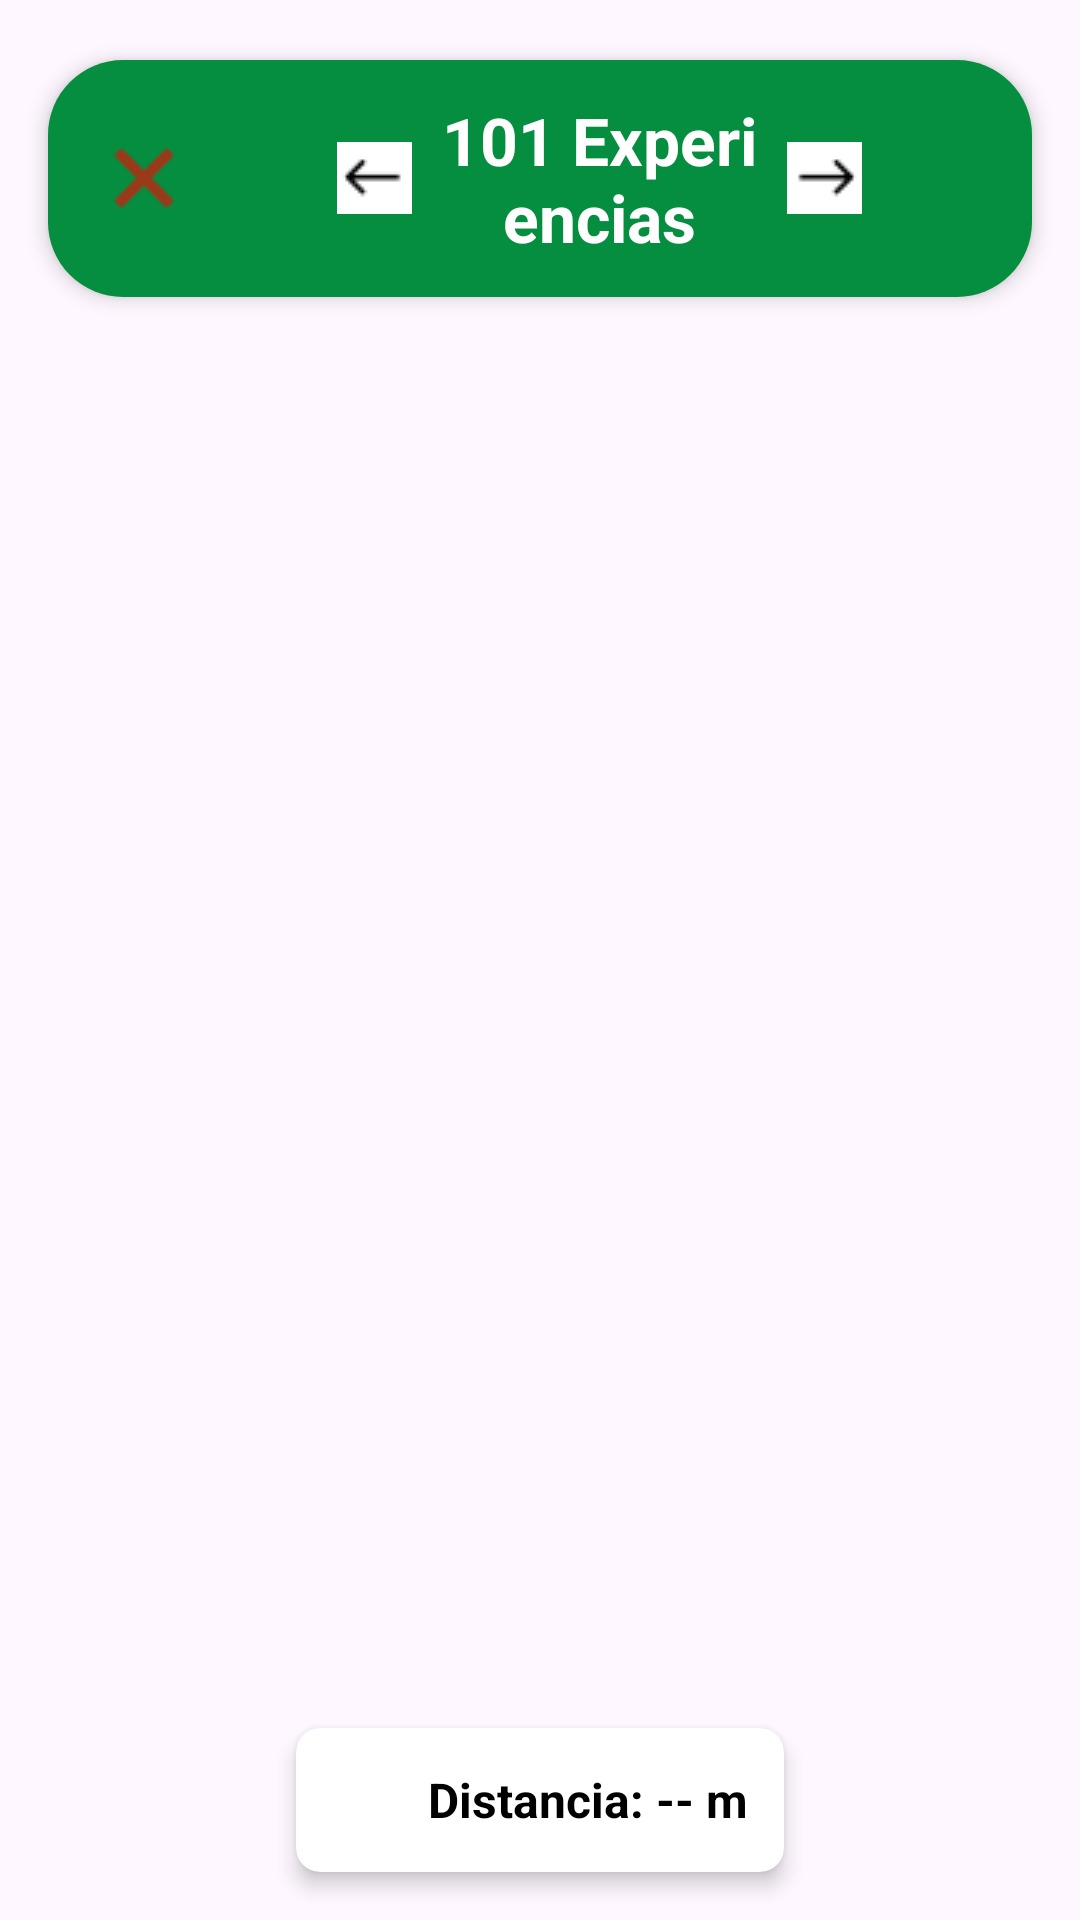

Screen size 1080px×1920px. Icon name, then its box in pixels as (x1, y1, x2, y2):
Previous desafio: (337, 142, 412, 214)
